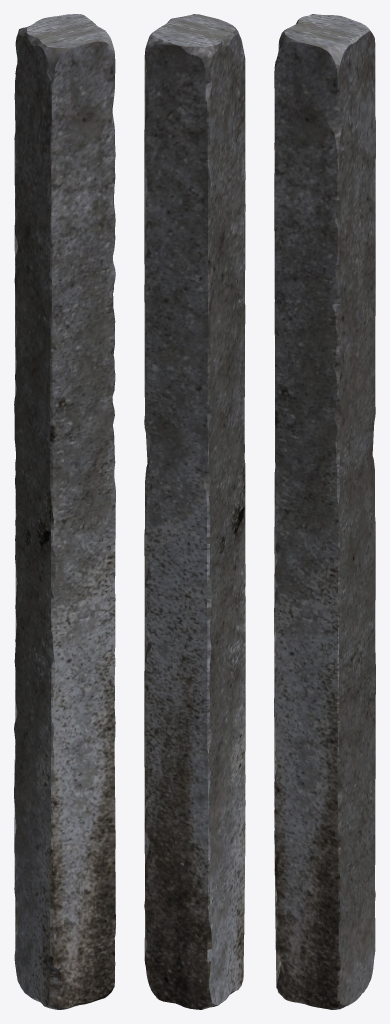
Rendered from Bet_stolb_003-1.fbx.
The picture shows the model from 3 angles, left to right: view 1: azimuth 30°, elevation 25°; view 2: azimuth 150°, elevation 25°; view 3: azimuth 330°, elevation 25°; orthographic projection.
Parts seen in each view (by area): view 1: Plane.004_dmg; view 2: Plane.004_dmg; view 3: Plane.004_dmg.
Part boxes in pixels (x1,y1,x2,y2): Plane.004_dmg: [14, 14, 115, 1009]; Plane.004_dmg: [144, 14, 245, 1009]; Plane.004_dmg: [274, 14, 375, 1009].
Size of the model in its own units: 40 by 570 by 40.
